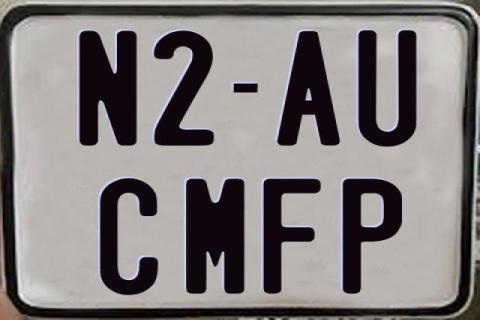0: (153, 31, 213, 149)
A: (277, 31, 344, 145)
C: (99, 176, 159, 294)
F: (262, 177, 324, 293)
M: (184, 176, 249, 294)
N: (76, 31, 140, 150)
P: (342, 176, 401, 291)
U: (355, 30, 413, 150)
